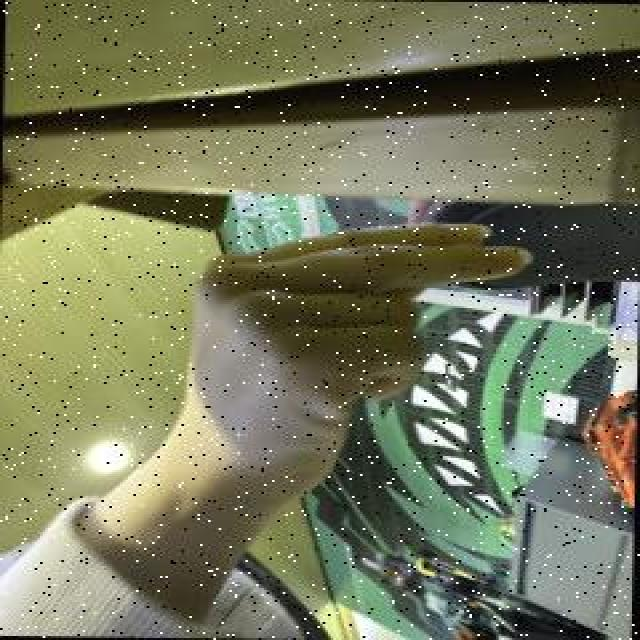H: (168, 213, 541, 495)
